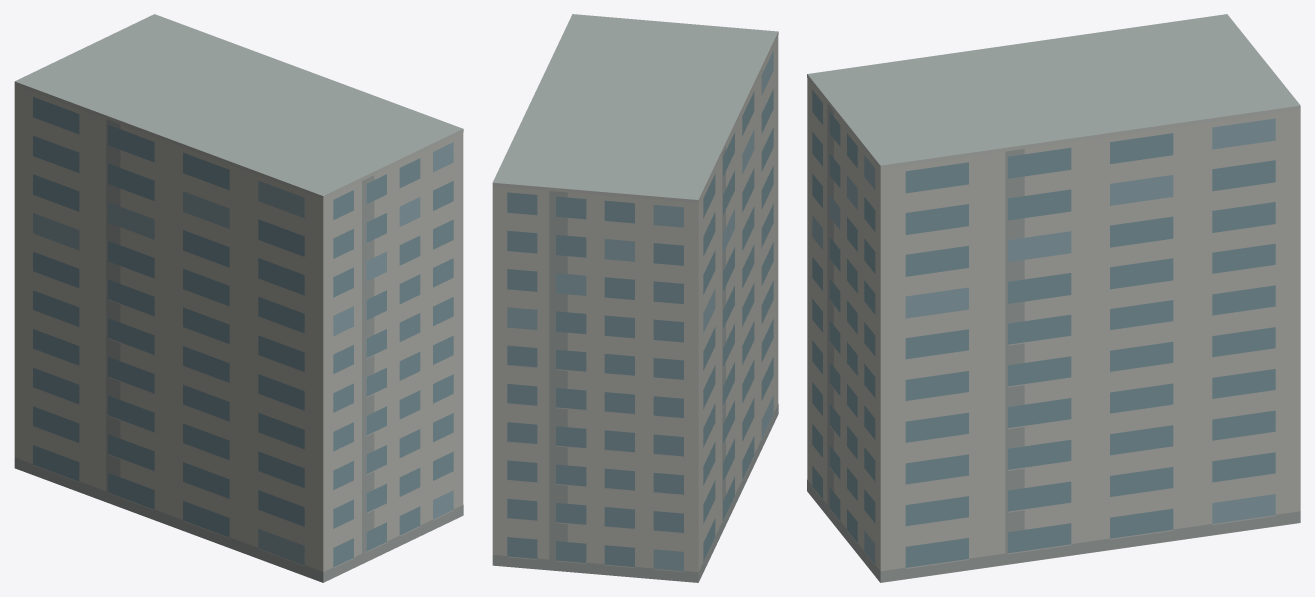
The model's file is residential-de7ac27f-2a12-40c3-ae1f-fa3e4fa7ac66.glb.
3 renders of one model, left to right at view 1: azimuth 30°, elevation 25°; view 2: azimuth 150°, elevation 25°; view 3: azimuth 270°, elevation 25°, orthographic. The views are drawn at different scales.
Visible parts, largest first — view 1: residential-de7ac27f-2a12-40c3-ae1f-fa3e4fa7ac66.tmp; view 2: residential-de7ac27f-2a12-40c3-ae1f-fa3e4fa7ac66.tmp; view 3: residential-de7ac27f-2a12-40c3-ae1f-fa3e4fa7ac66.tmp.
Boxes of the visible parts, x1,y1,x2,y2 form: residential-de7ac27f-2a12-40c3-ae1f-fa3e4fa7ac66.tmp: (14,14,463,582); residential-de7ac27f-2a12-40c3-ae1f-fa3e4fa7ac66.tmp: (492,14,778,582); residential-de7ac27f-2a12-40c3-ae1f-fa3e4fa7ac66.tmp: (807,14,1300,582).
Size of the model in its own units: 21.06 by 27 by 28.95.
